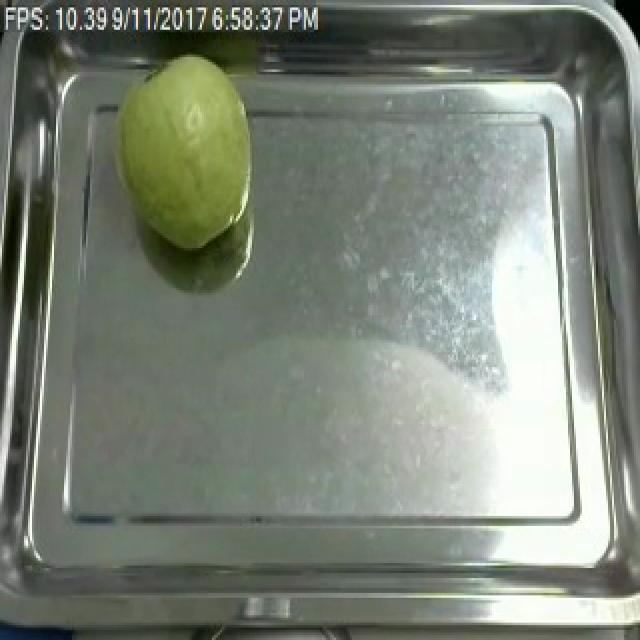Fruit: (100, 44, 262, 260)
